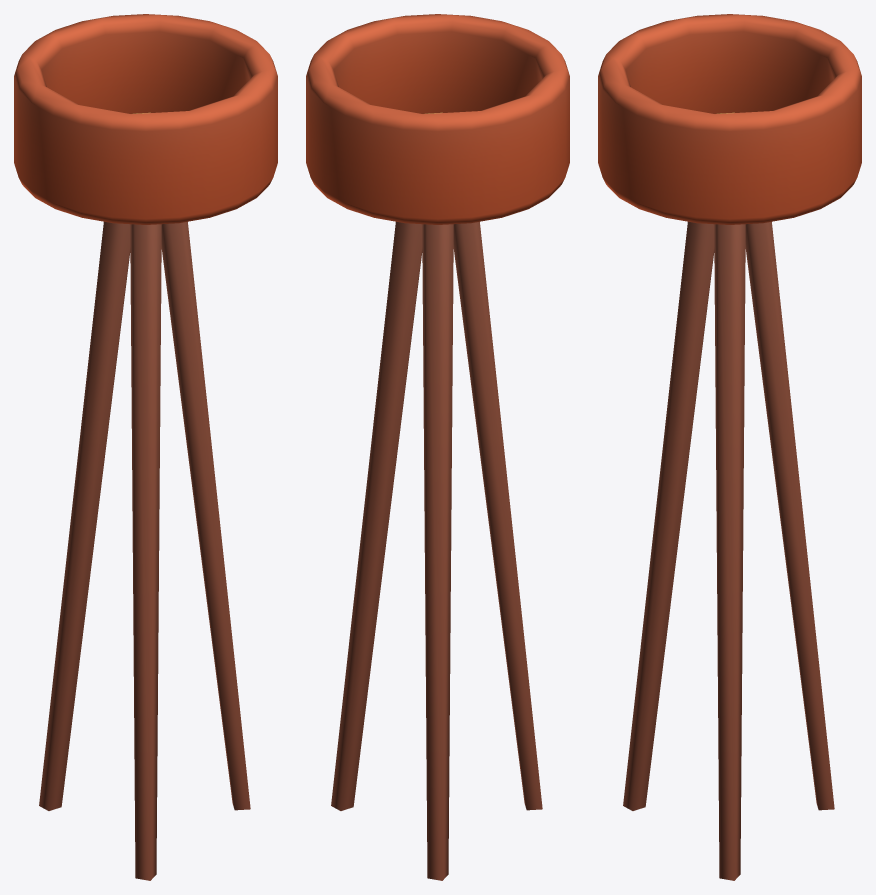
The model's file is Light_05.glb.
3 renders of one model, left to right at view 1: azimuth 30°, elevation 25°; view 2: azimuth 150°, elevation 25°; view 3: azimuth 270°, elevation 25°, orthographic.
Visible parts, largest first — view 1: Light_05; view 2: Light_05; view 3: Light_05.
Boxes of the visible parts, box(x1,y1,x2,y2) form: Light_05: box(14, 14, 277, 880); Light_05: box(306, 14, 569, 880); Light_05: box(598, 14, 861, 880).
Bounding box in the file's own units: 0.4375 × 1.4 × 0.4375.
1 material, 1 textured.
